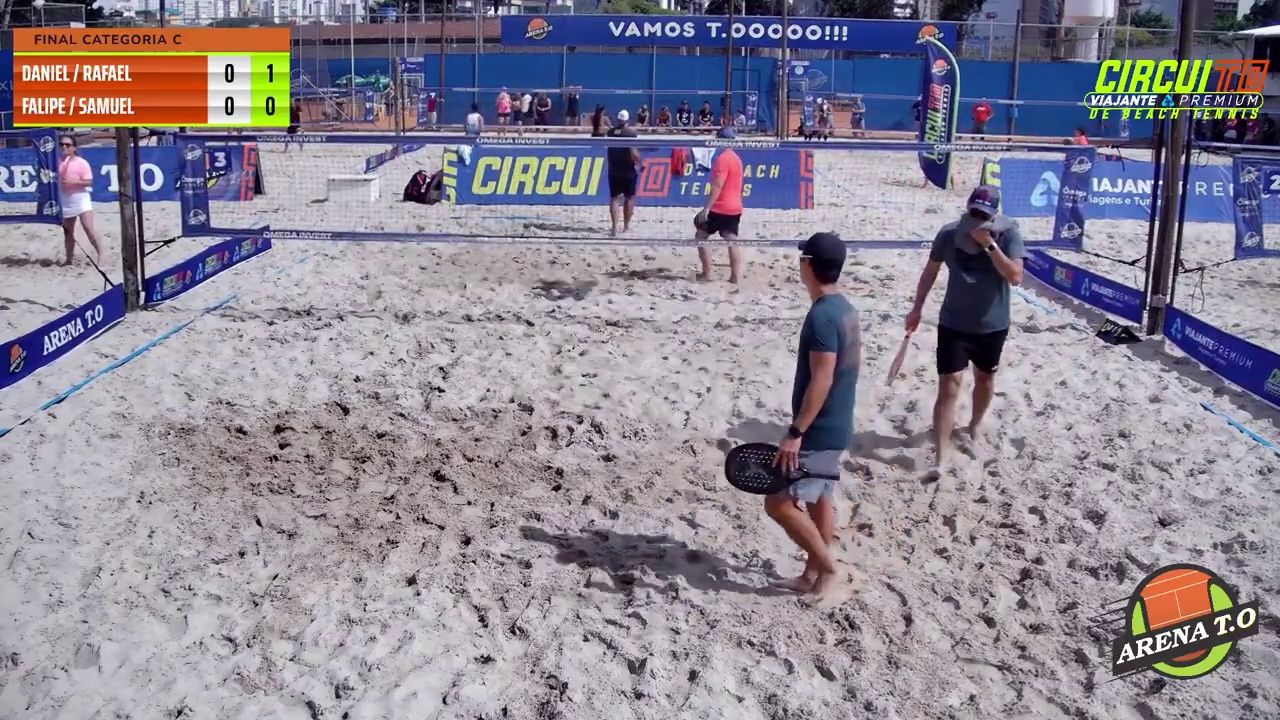court_line: (634, 0, 793, 428)
